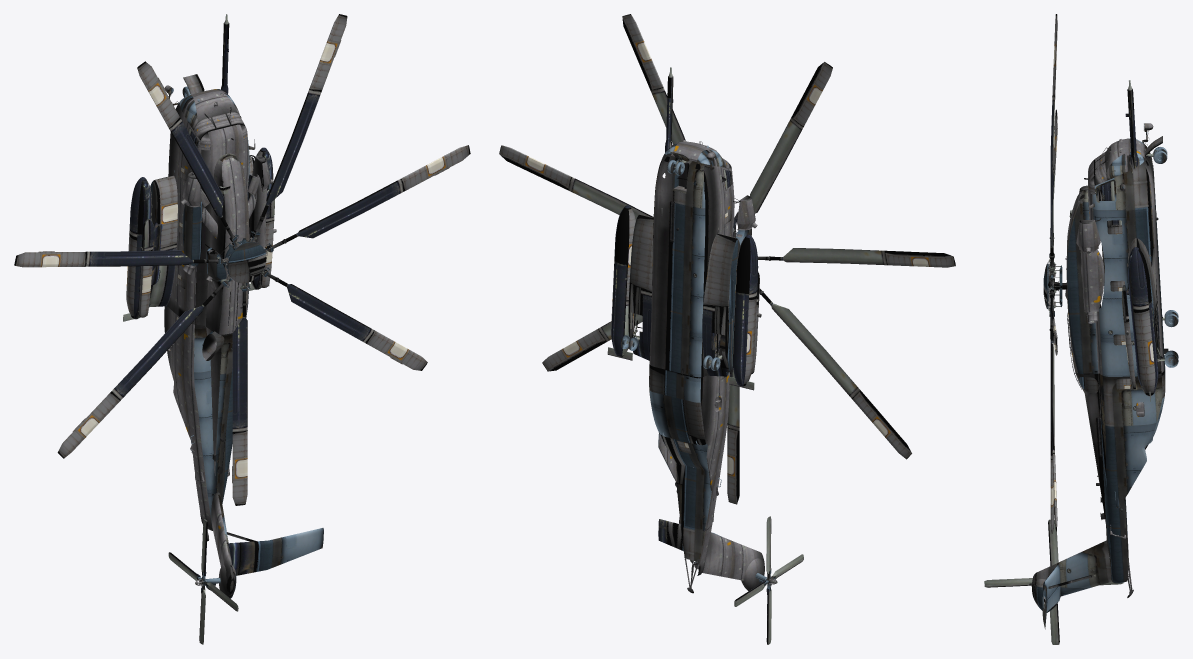
File: ch53e-sea-stallion.glb
3 views of the same model, side by side, from view 1: azimuth 30°, elevation 25°; view 2: azimuth 150°, elevation 25°; view 3: azimuth 270°, elevation 25° (orthographic).
Visible parts, largest first — view 1: mesh (×7); view 2: mesh (×9); view 3: mesh (×10).
Part boxes in pixels (left/top/right/bottom): mesh (×7): left=14, top=14, right=470, bottom=644; mesh (×9): left=499, top=14, right=955, bottom=644; mesh (×10): left=984, top=14, right=1178, bottom=644.
Size of the model in its own units: 24.74 by 30.88 by 9.01.
Materials: 1 (1 with a texture image).
